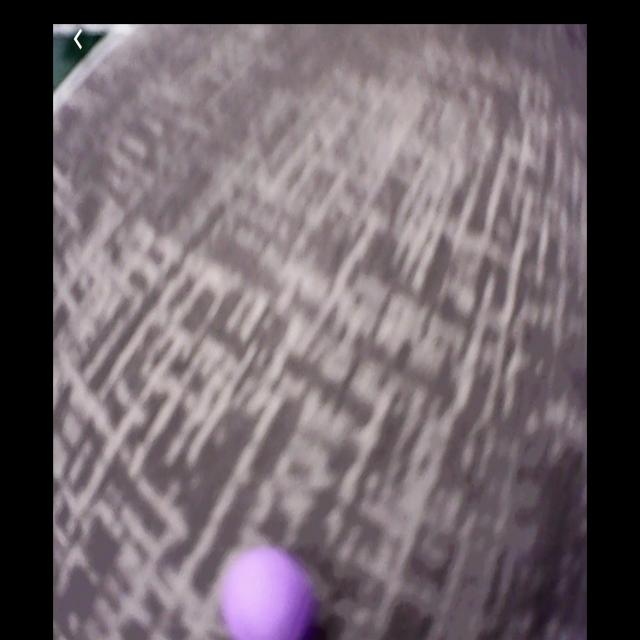ball: (218, 546, 314, 640)
